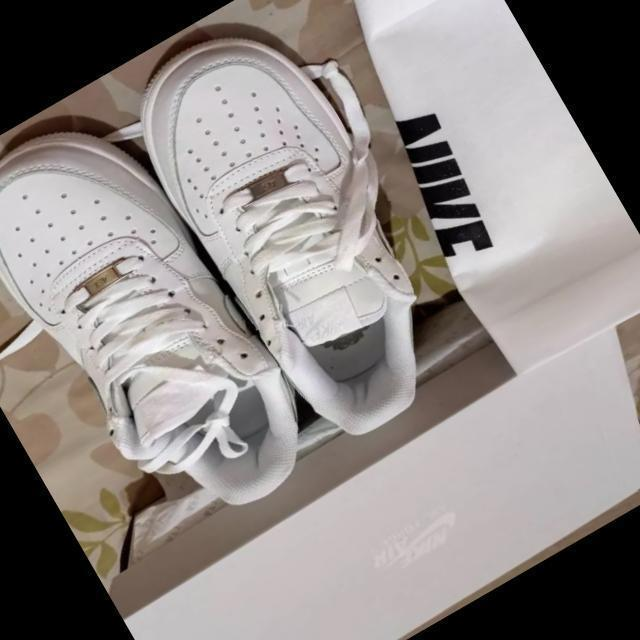nike fake air force: (102, 0, 493, 467), (0, 81, 343, 563)
